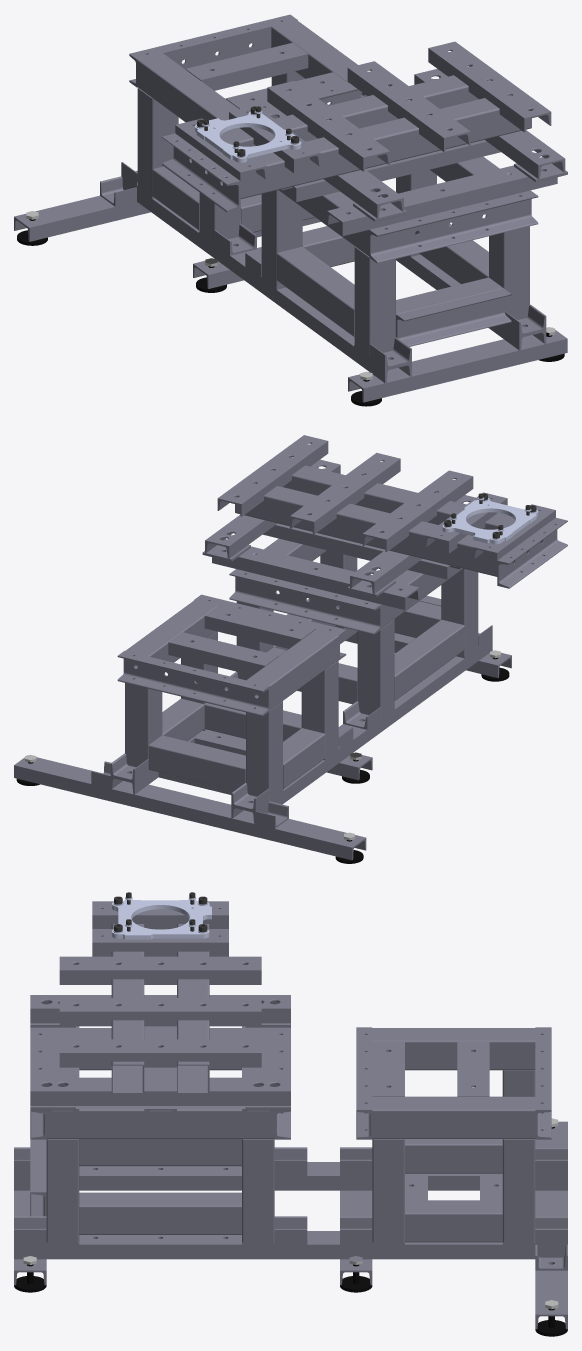
Rendered from base_assembly.glb.
3 renders of one model, top to bottom at view 1: azimuth 30°, elevation 25°; view 2: azimuth 150°, elevation 25°; view 3: azimuth 270°, elevation 25°, orthographic. The views are drawn at different scales.
Visible parts, largest first — view 1: color[57], color[47], color[44], color[37], color[9], color[10], color[36], color[56], color[22], color[45], color[3], color[53] (+32 smaller); view 2: color[43], color[49], color[6], color[8], color[42], color[37], color[35], color[53], color[56], color[36], color[22], color[54] (+34 smaller); view 3: color[17], color[37], color[41], color[30], color[46], color[2], color[56], color[36], color[22], color[53], color[3], color[59] (+35 smaller).
Part boxes in pixels (bbox=[...]): color[57]: bbox=[221, 95, 531, 199]; color[47]: bbox=[369, 190, 538, 263]; color[44]: bbox=[348, 327, 567, 402]; color[37]: bbox=[122, 177, 411, 383]; color[9]: bbox=[327, 165, 557, 236]; color[10]: bbox=[396, 288, 511, 346]; color[36]: bbox=[428, 41, 551, 132]; color[56]: bbox=[267, 81, 390, 171]; color[22]: bbox=[347, 61, 470, 151]; color[45]: bbox=[354, 246, 395, 355]; color[3]: bbox=[276, 246, 354, 336]; color[53]: bbox=[137, 53, 239, 122]; color[43]: bbox=[14, 755, 366, 860]; color[49]: bbox=[235, 483, 514, 576]; color[6]: bbox=[117, 650, 269, 716]; color[8]: bbox=[229, 569, 380, 634]; color[42]: bbox=[212, 546, 419, 609]; color[37]: bbox=[231, 638, 492, 823]; color[35]: bbox=[148, 735, 245, 790]; color[53]: bbox=[246, 629, 339, 709]; color[56]: bbox=[362, 470, 473, 552]; color[36]: bbox=[217, 435, 328, 516]; color[22]: bbox=[290, 452, 400, 534]; color[54]: bbox=[357, 619, 394, 717]; color[17]: bbox=[14, 1231, 566, 1259]; color[37]: bbox=[14, 1162, 567, 1190]; color[41]: bbox=[372, 1096, 535, 1138]; color[30]: bbox=[79, 1192, 241, 1234]; color[46]: bbox=[46, 1106, 274, 1138]; color[2]: bbox=[30, 1077, 290, 1105]; color[56]: bbox=[59, 956, 261, 984]; color[36]: bbox=[59, 1039, 261, 1067]; color[22]: bbox=[59, 998, 261, 1026]; color[53]: bbox=[372, 1028, 535, 1070]; color[3]: bbox=[79, 1139, 241, 1166]; color[59]: bbox=[405, 1200, 502, 1242].
Bounding box in the file's own units: 1.46 × 0.8659 × 1.7.
